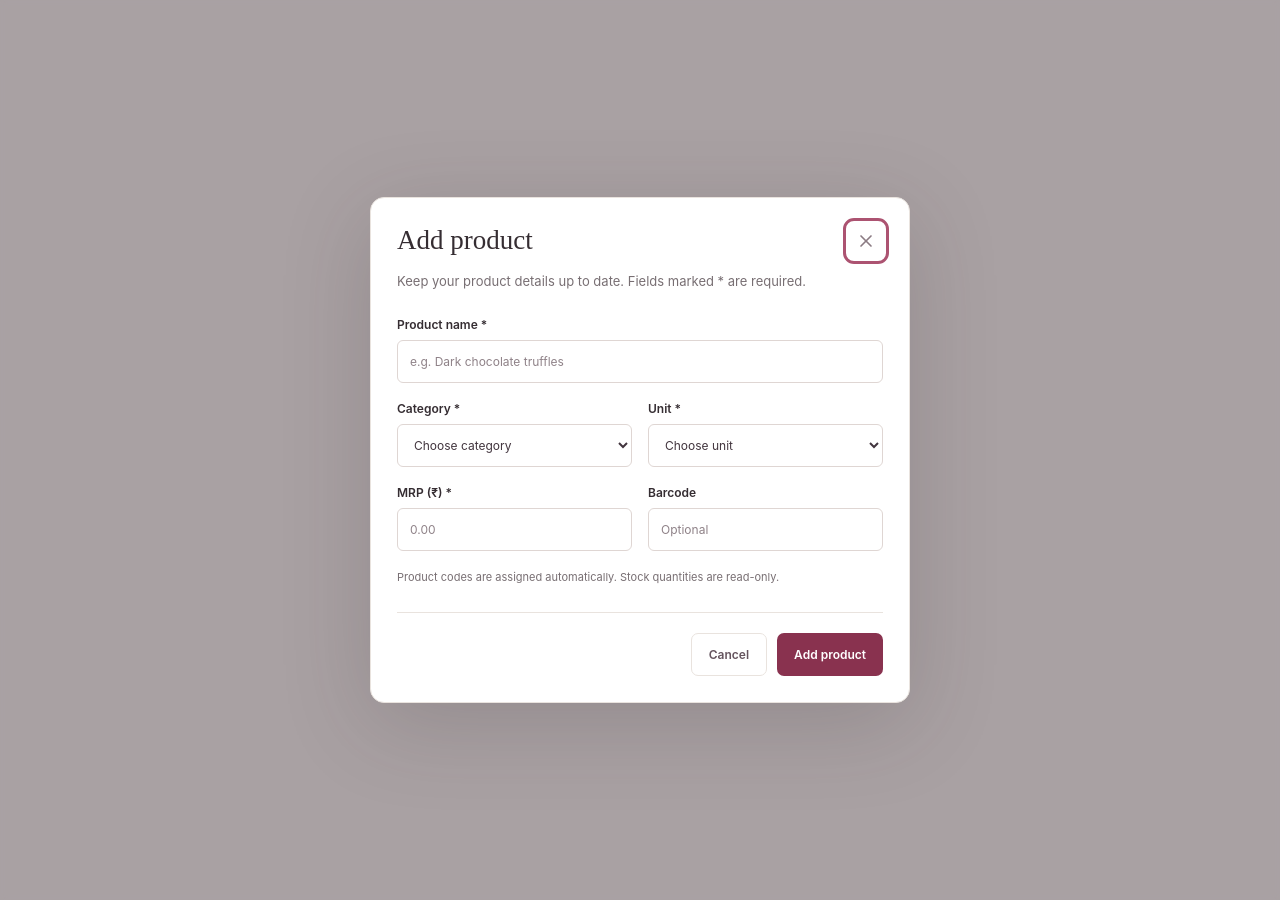
it: requires product category, unit, and a nonnegative MRP
Step 1. Type "Truffle" into the field labelled "Product name *" → (640, 361), box [397, 340, 883, 383]
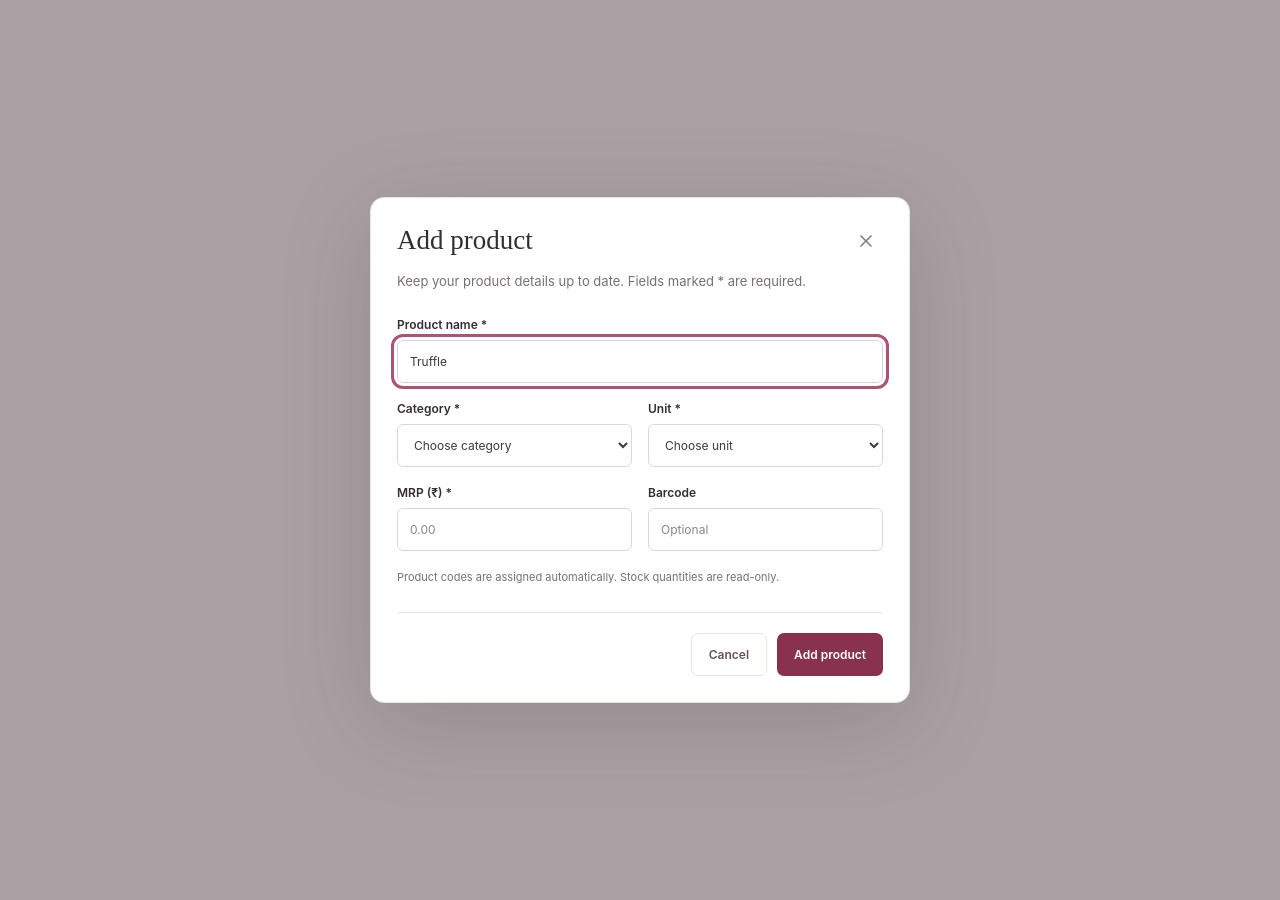
Step 2. Select "Chocolate" in the dropdown labelled "Category *" → (514, 445), box [397, 424, 632, 467]
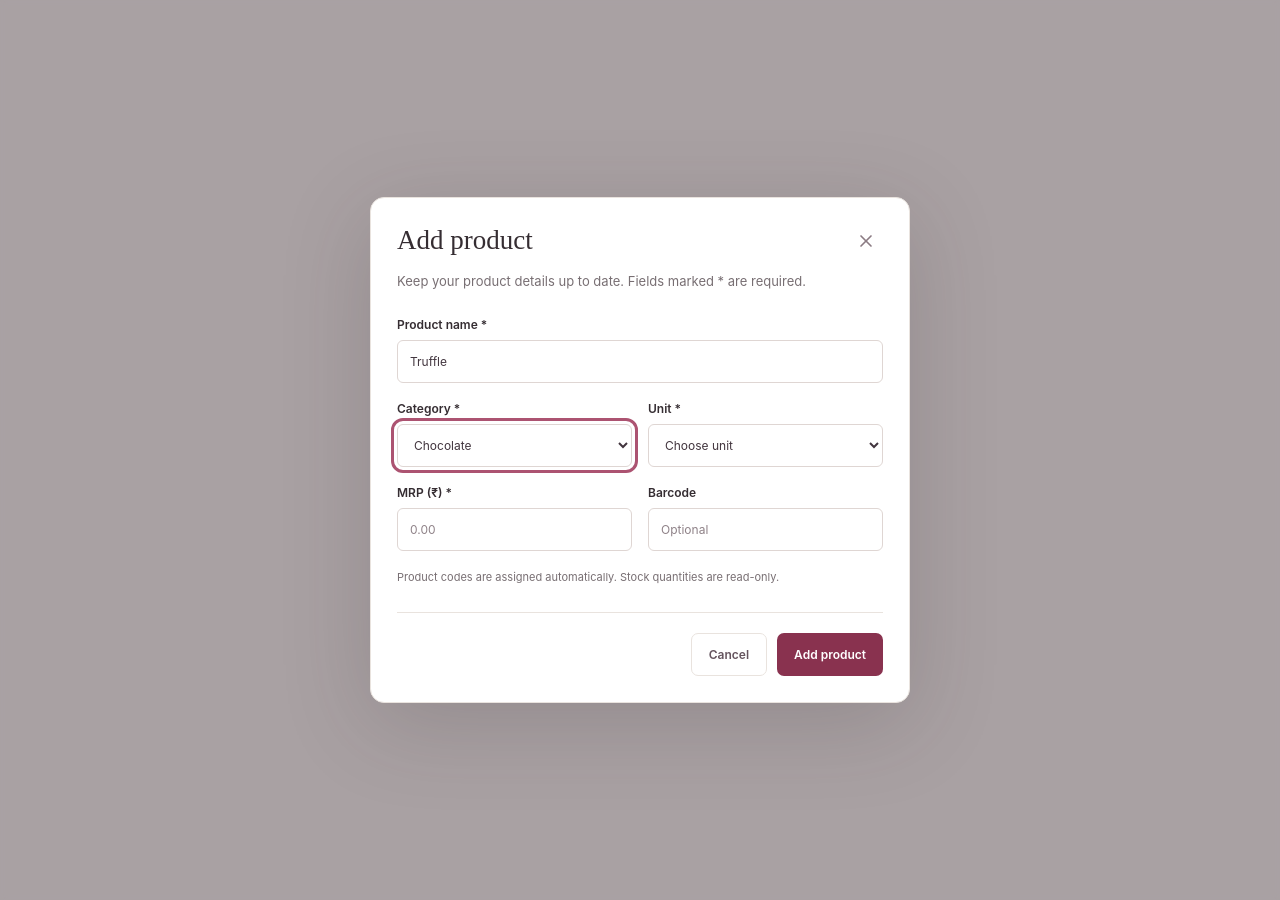
Step 3. Select "Piece (PCS)" in the dropdown labelled "Unit *" → (766, 445), box [648, 424, 883, 467]
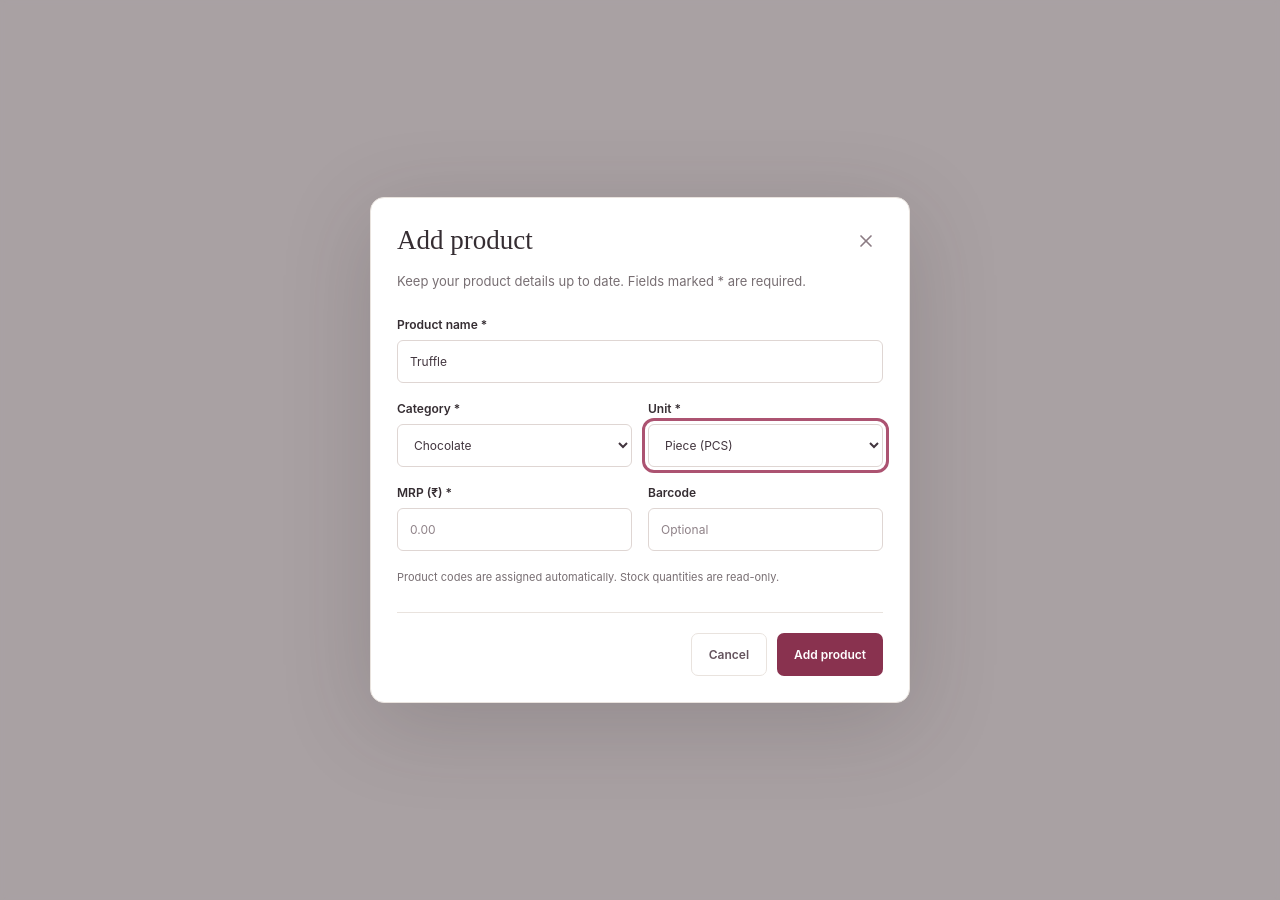
Step 4. Type "-1" into the number field labelled "MRP (₹) *" → (514, 529), box [397, 508, 632, 551]
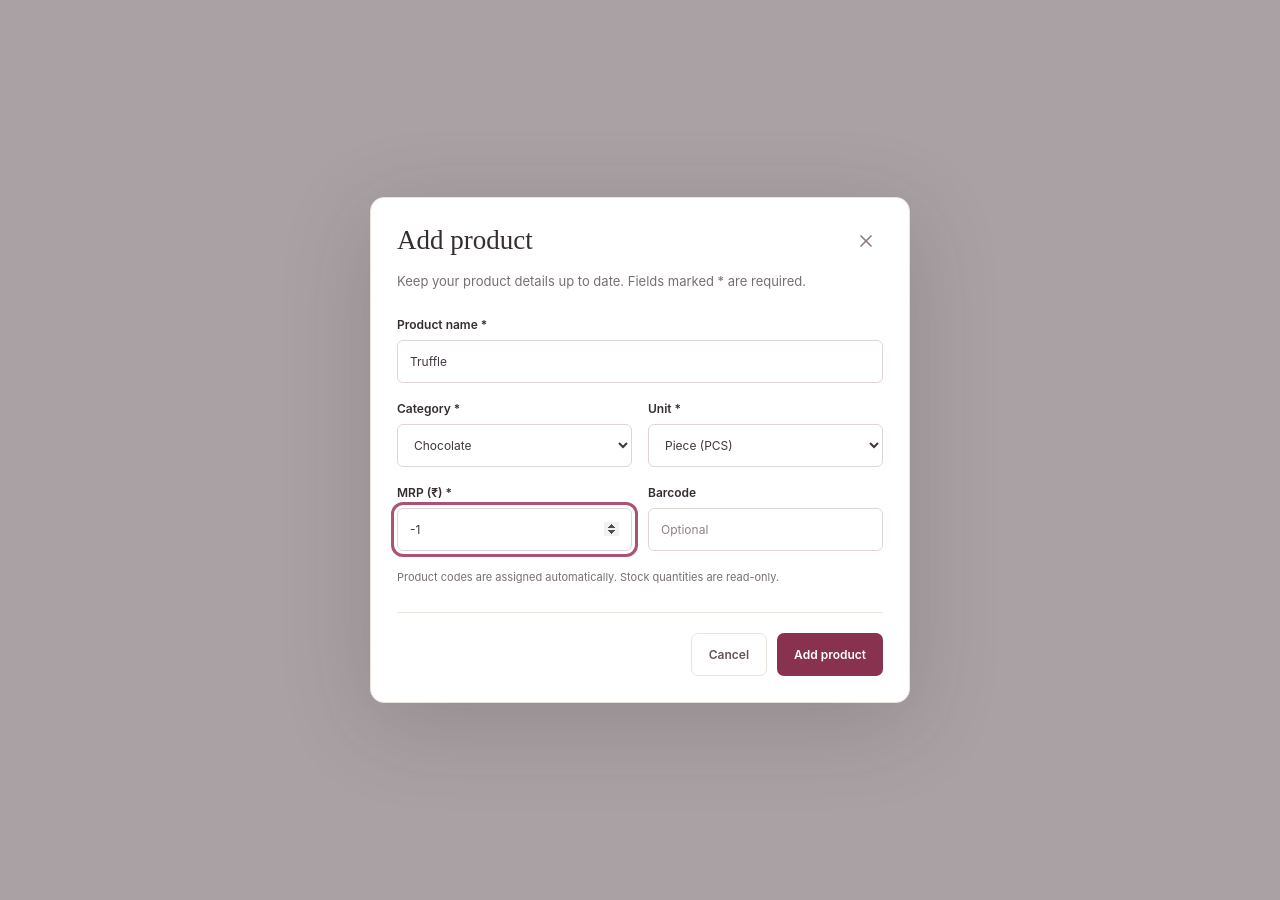
Step 5. Click the button "Add product" → (830, 655), box [777, 634, 883, 676]
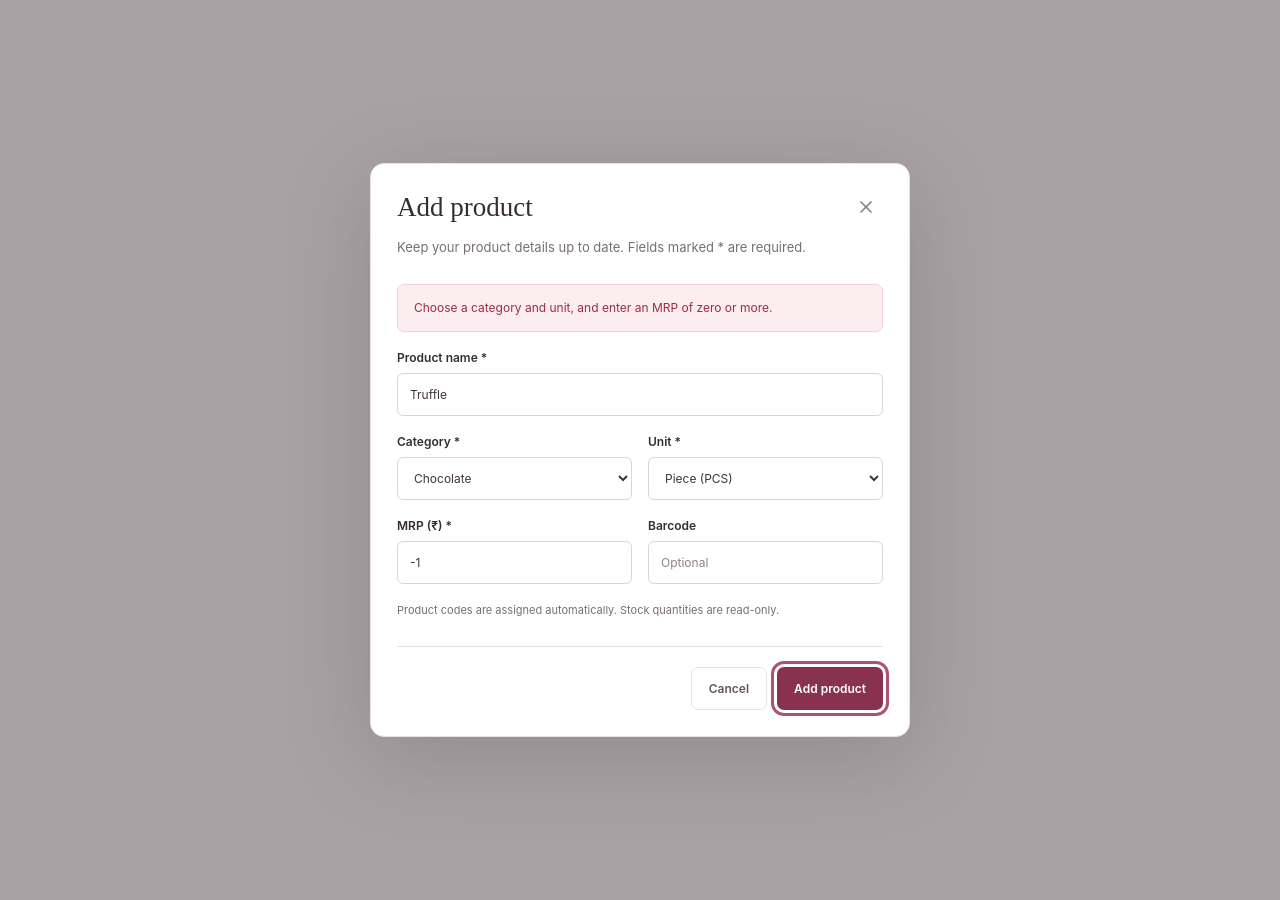
Result: the message shows "zero or more" at [414, 300, 772, 315]
